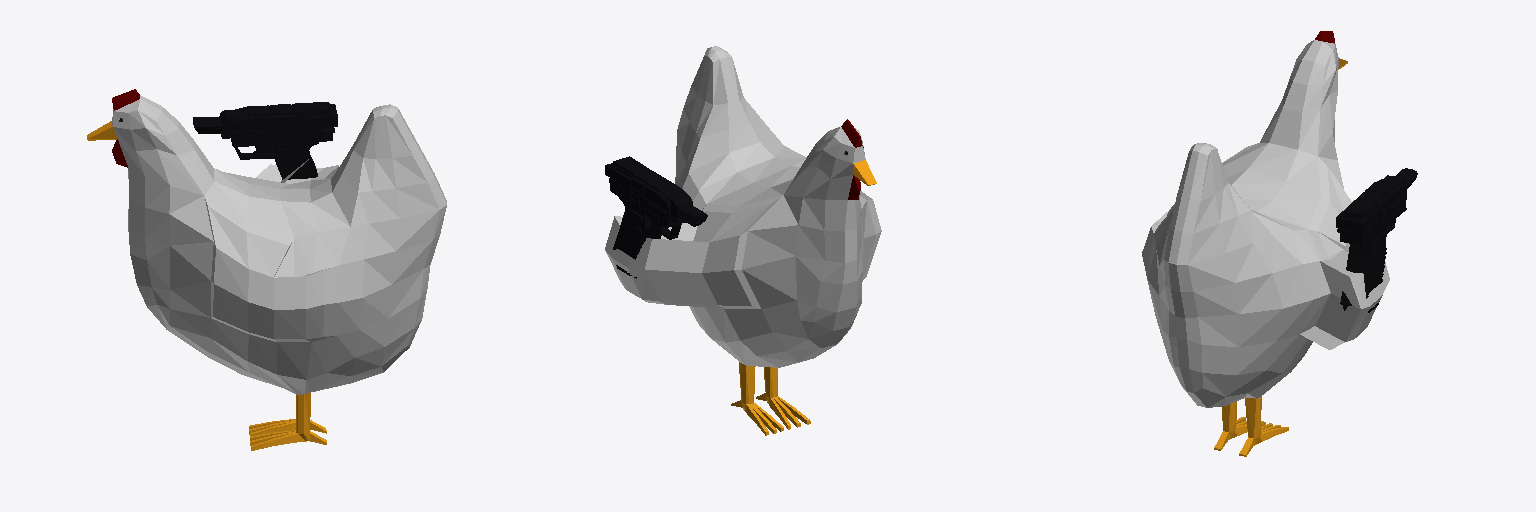
File: chicken-revamp.obj
The picture shows the model from 3 angles: view 1: azimuth 30°, elevation 25°; view 2: azimuth 150°, elevation 25°; view 3: azimuth 270°, elevation 25°; orthographic projection.
Parts seen in each view (by area): view 1: Chicken, Cube.048, Cube.044, Cube.054_Cube.055, Cube.050; view 2: Chicken, Cube.044, Cube.054_Cube.055, Cube.048; view 3: Chicken, Cube.044, Cube.054_Cube.055, Cube.051, Cube.048, Cube.049.
Part boxes in pixels (bbox=[...]): Chicken: bbox=[87, 89, 446, 450]; Cube.048: bbox=[232, 106, 323, 146]; Cube.044: bbox=[220, 102, 330, 138]; Cube.054_Cube.055: bbox=[278, 148, 317, 179]; Cube.050: bbox=[231, 104, 332, 145]; Chicken: bbox=[605, 46, 881, 435]; Cube.044: bbox=[613, 156, 692, 223]; Cube.054_Cube.055: bbox=[613, 209, 661, 275]; Cube.048: bbox=[616, 172, 688, 227]; Chicken: bbox=[1142, 31, 1389, 456]; Cube.044: bbox=[1343, 175, 1406, 218]; Cube.054_Cube.055: bbox=[1340, 232, 1386, 312]; Cube.051: bbox=[1342, 228, 1385, 310]; Cube.048: bbox=[1355, 179, 1406, 235]; Cube.049: bbox=[1336, 200, 1382, 232].
Bounding box in the file's own units: 0.3314 × 0.4005 × 0.2852.